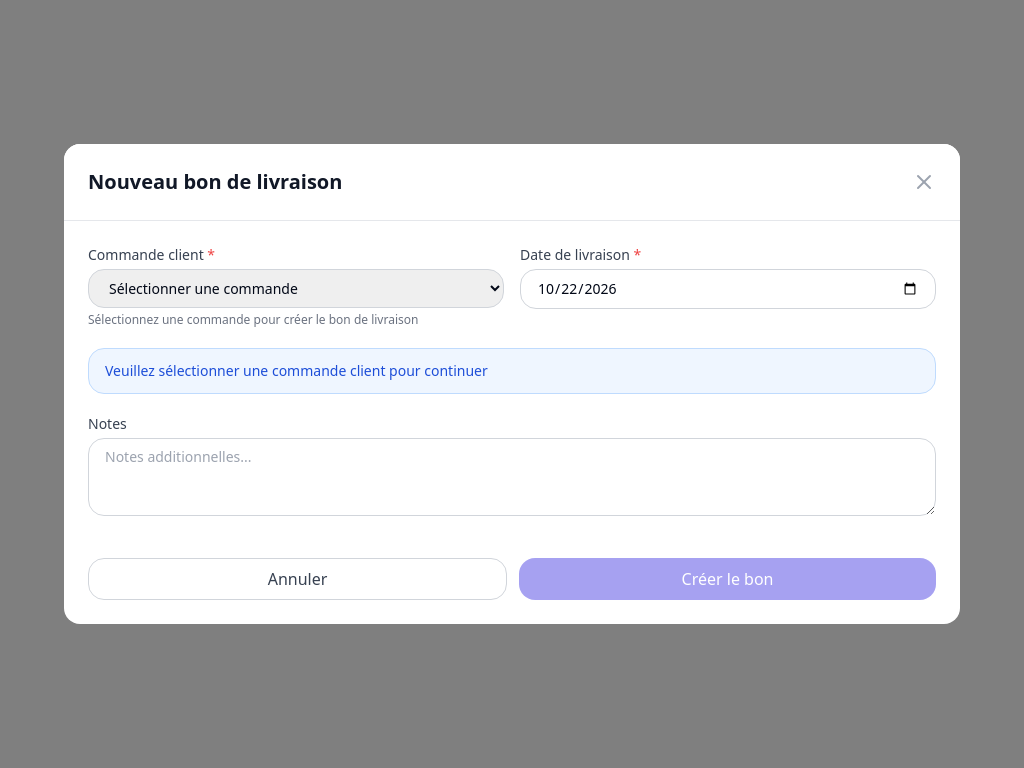
Scenario: DeliveryNoteModal › should populate items when order is selected
Select "CMD-2024-001 - Client A" in the dropdown at (296, 288), box top-left (88, 269), bottom-right (504, 308)
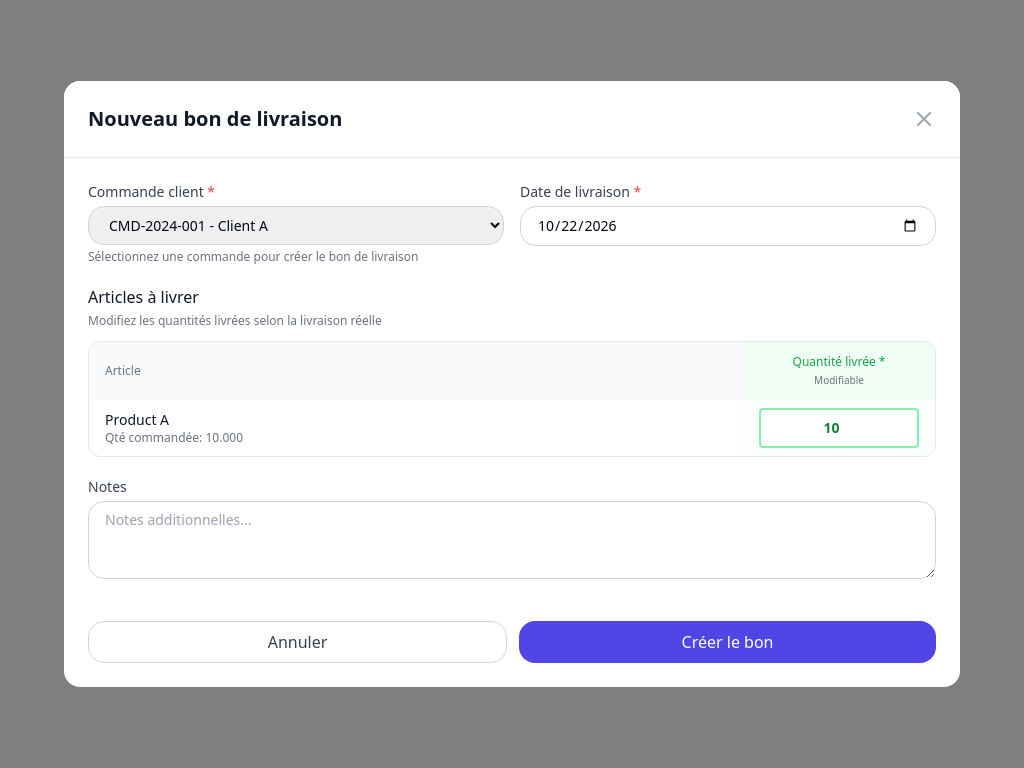
expect the text "Product A" is shown: met, box top-left (105, 410), bottom-right (169, 429)
